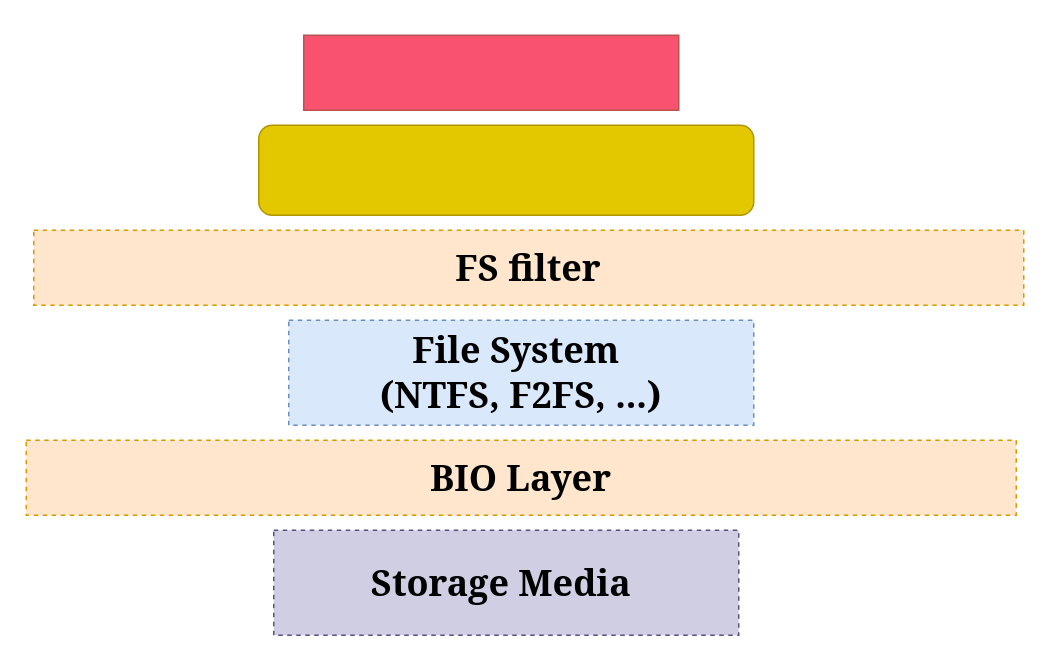
Image size: 1050x662. Some labels were removed from this diagram. Each missing label, with the centre of its shape:
"Ransomware" belongs at (490,72).
"Storage System with Data Backup Policy" belongs at (505,169).
